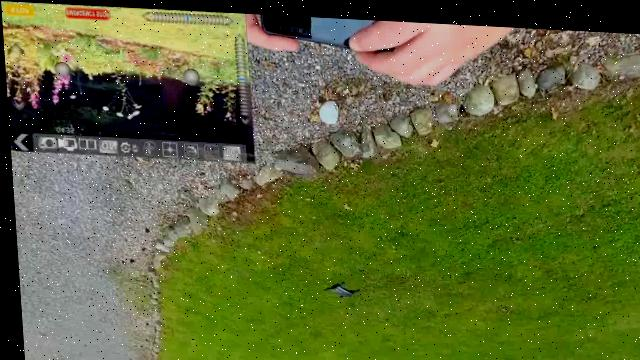drone: (317, 270, 359, 305)
